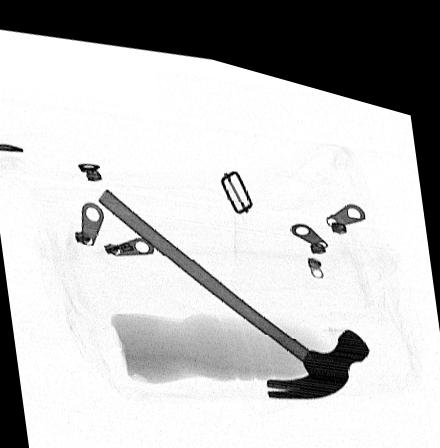Hammer: (97, 183, 369, 382)
